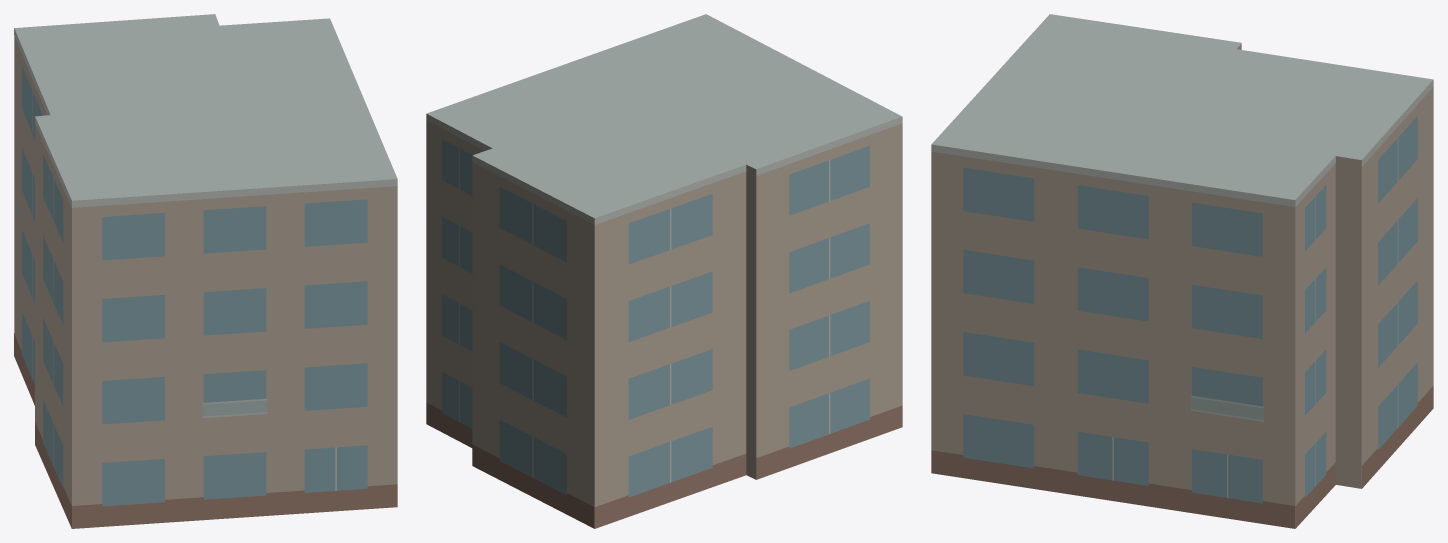
Rendered from survey-upis-32948724.glb.
3 views of the same model, side by side, from view 1: azimuth 30°, elevation 25°; view 2: azimuth 150°, elevation 25°; view 3: azimuth 270°, elevation 25° (orthographic). The views are drawn at different scales.
Visible parts, largest first — view 1: survey-upis-32948724.tmp; view 2: survey-upis-32948724.tmp; view 3: survey-upis-32948724.tmp.
Boxes of the visible parts, x1,y1,x2,y2 form: survey-upis-32948724.tmp: (14,14,397,528); survey-upis-32948724.tmp: (426,14,902,528); survey-upis-32948724.tmp: (931,14,1433,528).
Size of the model in its own units: 13.85 by 11.4 by 15.8.
